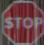Stop: (4, 0, 43, 40)
